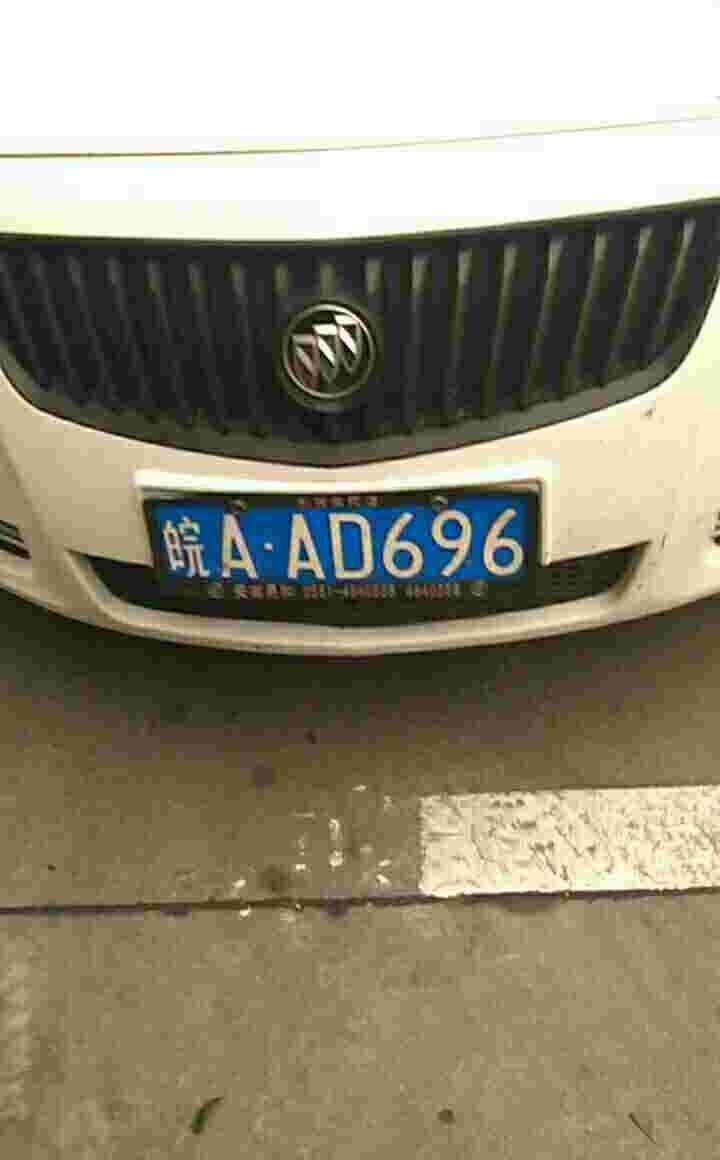license_plate: (134, 496, 544, 590)
